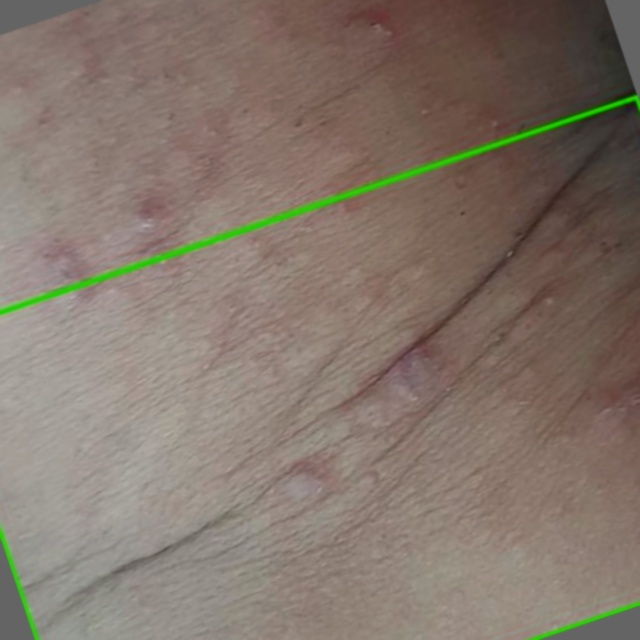Scabies: (0, 95, 639, 639)
